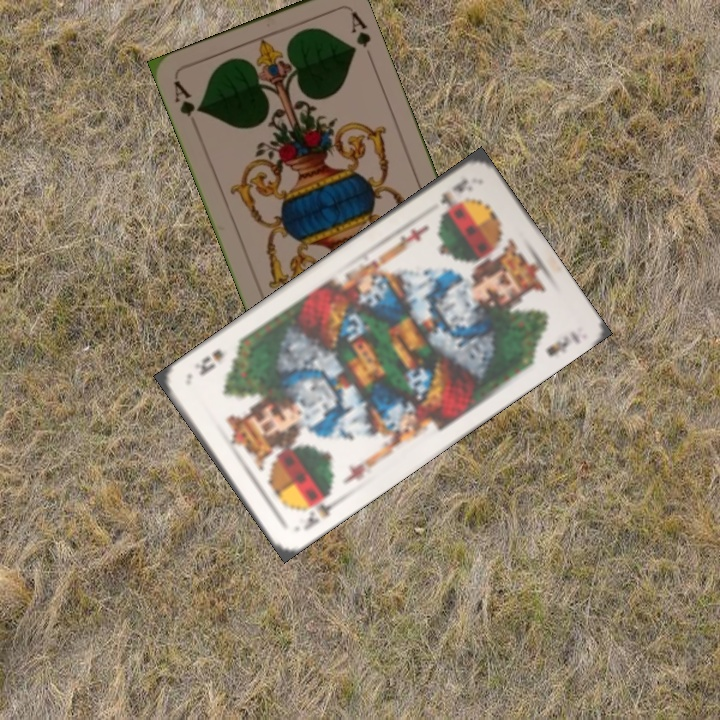GA: (169, 76, 204, 120)
SK: (298, 488, 342, 533), (434, 174, 471, 217)
